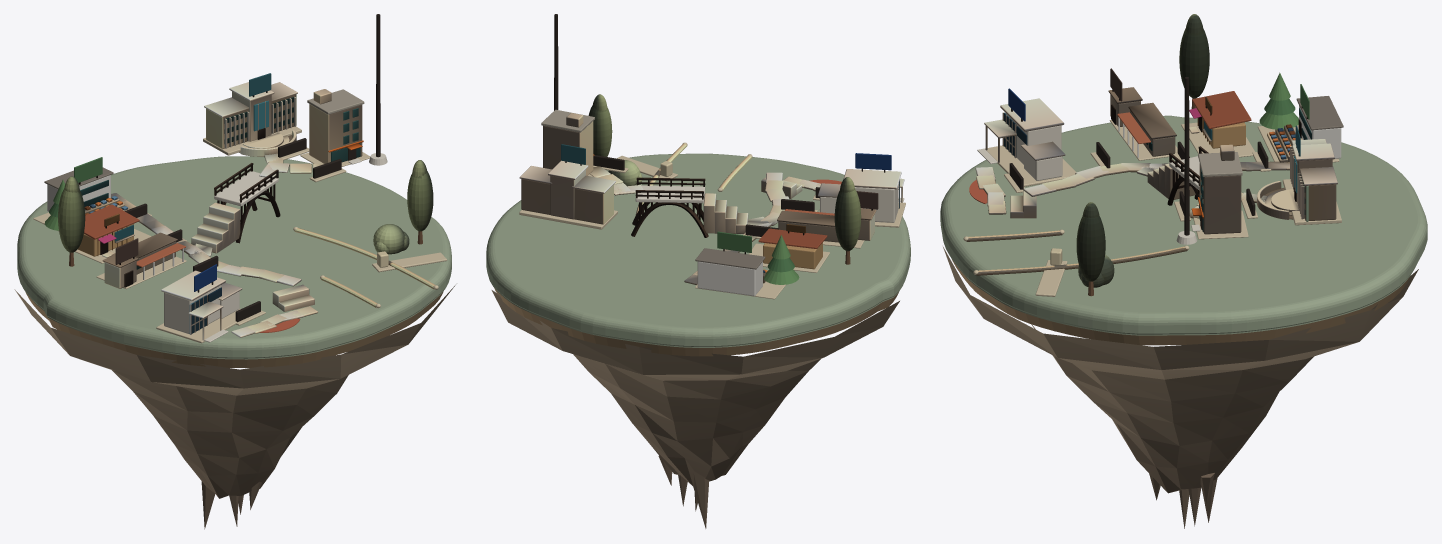
Rendered from baked-4.glb.
3 renders of one model, left to right at view 1: azimuth 30°, elevation 25°; view 2: azimuth 150°, elevation 25°; view 3: azimuth 270°, elevation 25°, orthographic. The views are drawn at different scales.
Visible parts, largest first — view 1: lm.001, vl.001; view 2: lm.001, vl.001; view 3: lm.001, vl.001.
Part boxes in pixels (bbox=[...]): lm.001: bbox=[14, 14, 455, 529]; vl.001: bbox=[58, 82, 435, 340]; lm.001: bbox=[486, 14, 910, 528]; vl.001: bbox=[519, 94, 904, 284]; lm.001: bbox=[940, 68, 1427, 528]; vl.001: bbox=[966, 14, 1337, 287].
Bounding box in the file's own units: 16.13 × 19.38 × 16.02.
